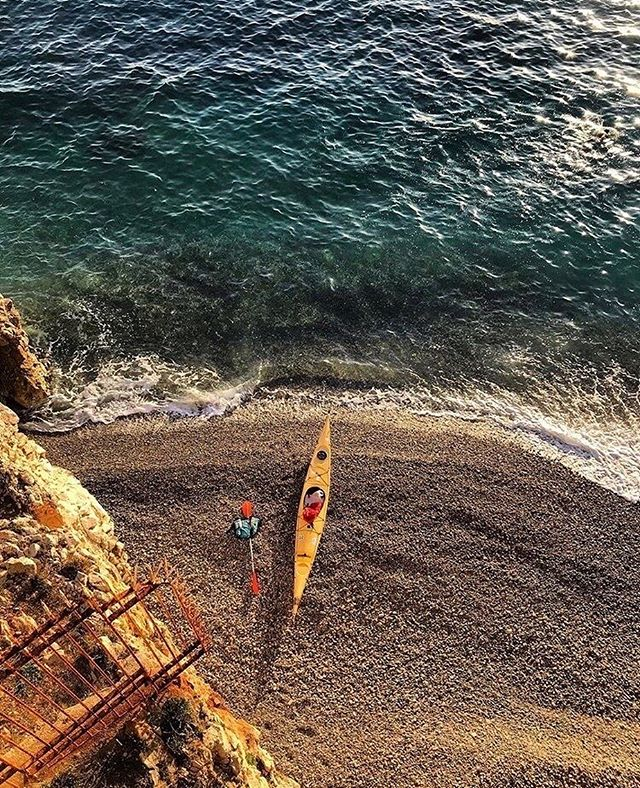beach: (68, 430, 640, 788)
boat: (278, 408, 340, 610)
sea: (1, 1, 640, 397)
